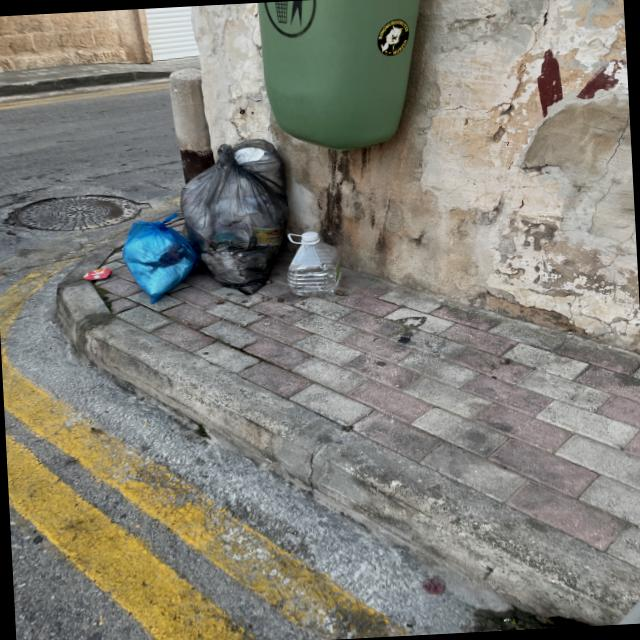black_bag: (178, 138, 286, 298)
other_waste: (78, 214, 198, 306), (284, 227, 352, 301)
